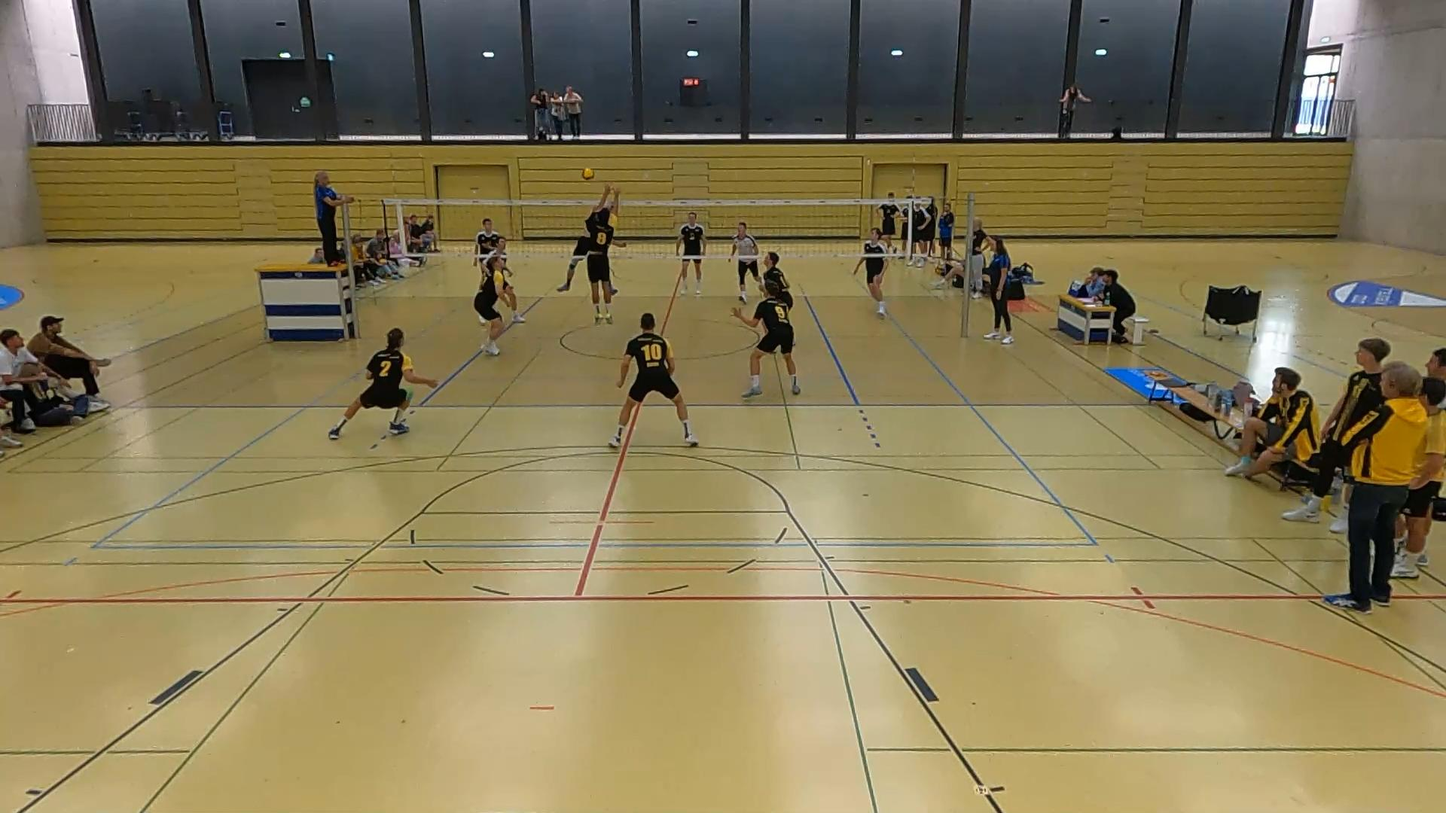attacco: (555, 180, 589, 301)
muro: (569, 181, 634, 328)
